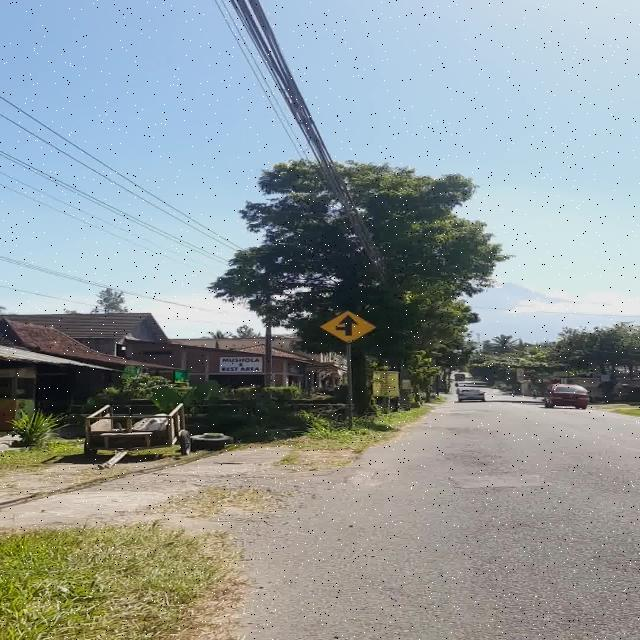Persimpangan 3 Prioritas Kiri: (318, 310, 377, 344)
